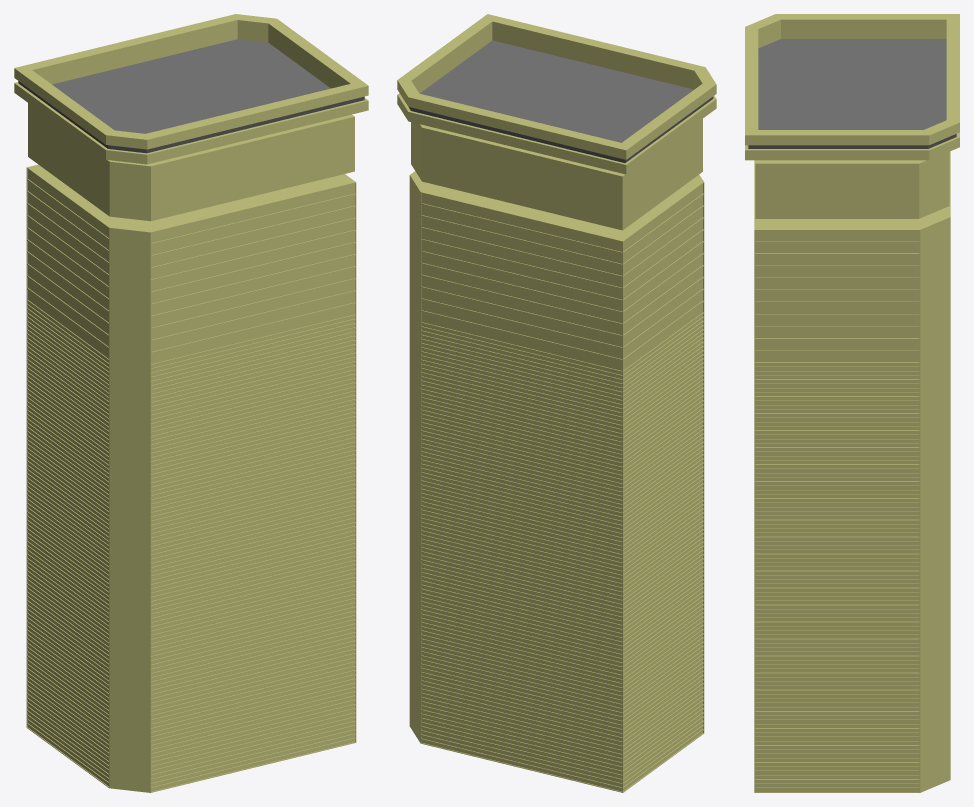
File: bjtl.fbx
3 renders of one model, left to right at view 1: azimuth 30°, elevation 25°; view 2: azimuth 150°, elevation 25°; view 3: azimuth 270°, elevation 25°, orthographic. The views are drawn at different scales.
Visible parts, largest first — view 1: Mesh; view 2: Mesh; view 3: Mesh.
Boxes of the visible parts, box(x1,y1,x2,y2) form: Mesh: box(14, 14, 368, 792); Mesh: box(397, 14, 716, 792); Mesh: box(745, 14, 959, 792).
Bounding box in the file's own units: 7.54 × 19.14 × 5.63.
